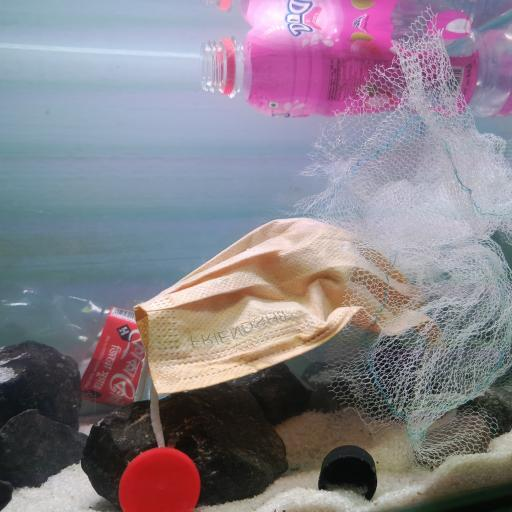bottle_cap: (118, 445, 200, 512), (319, 445, 378, 500)
mask: (132, 215, 462, 402)
net: (281, 9, 512, 470)
plastic_bottle: (201, 19, 490, 119), (0, 284, 171, 405)
